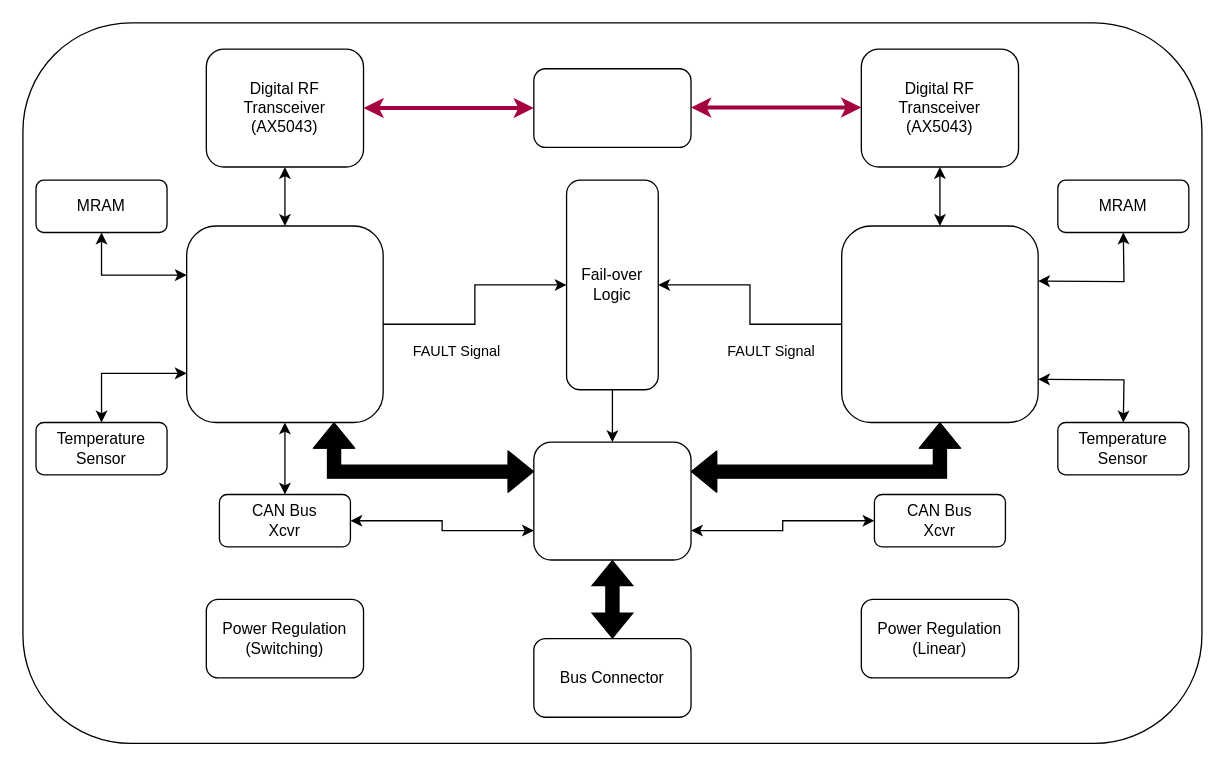
Image size: 1225x766. Some labels were removed from this diagram. The centre of each missing label's shape, as x and y in pixels:
"Bus Switch" belongs at [612,500].
"Primary CPU (TMS570)" belongs at [284,323].
"RF Splitter/Combiner" belongs at [612,107].
"Secondary CPU (TMS570)" belongs at [939,323].
